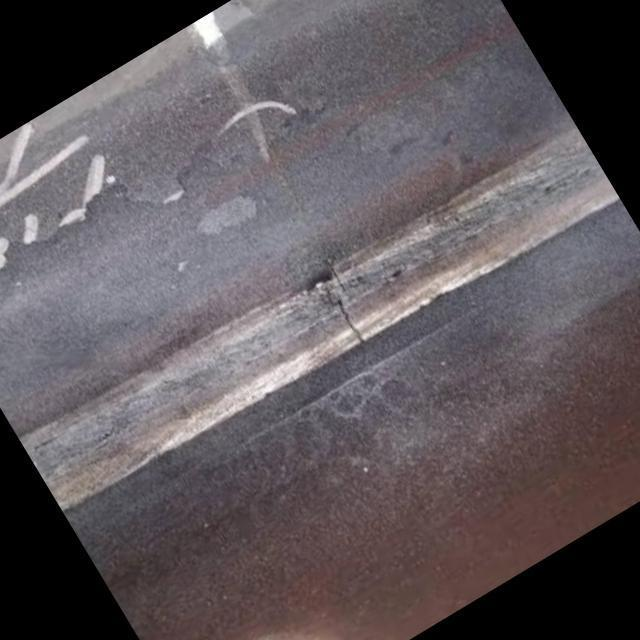defect: (320, 286, 369, 349)
